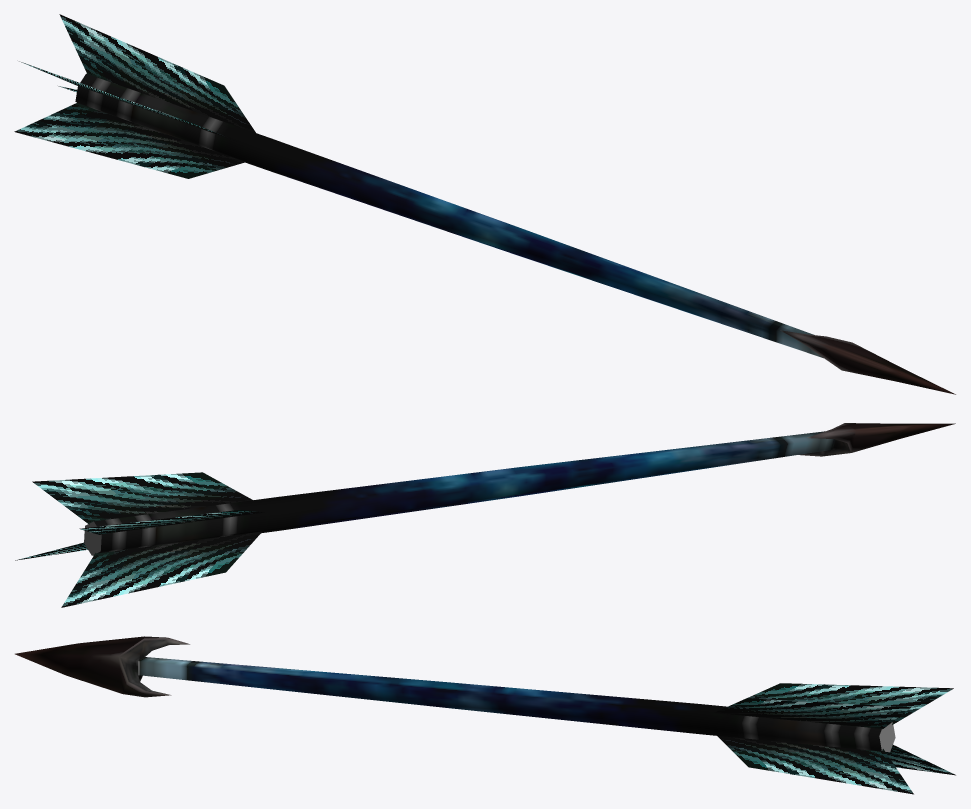
File: CH8_CINE05_ANIM_INST.fbx
The picture shows the model from 3 angles, top to bottom: view 1: azimuth 90°, elevation 25°; view 2: azimuth 150°, elevation 25°; view 3: azimuth 270°, elevation 25°; orthographic projection. The views are drawn at different scales.
Visible parts, largest first — view 1: CH8_CINE05_ANIM_INST; view 2: CH8_CINE05_ANIM_INST; view 3: CH8_CINE05_ANIM_INST.
Boxes of the visible parts, <box> form: CH8_CINE05_ANIM_INST: <box>14,14,955,394</box>; CH8_CINE05_ANIM_INST: <box>15,423,955,607</box>; CH8_CINE05_ANIM_INST: <box>15,636,955,794</box>.
Size of the model in its own units: 6143 by 2147 by 10883.
2 materials, 2 textured.
